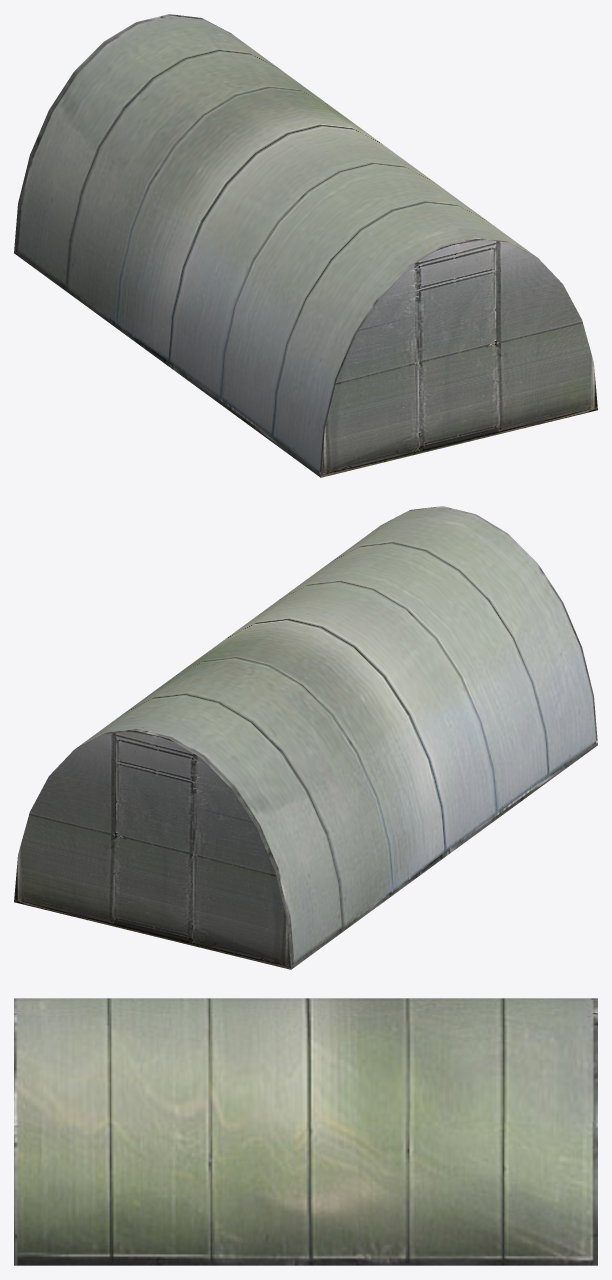
The model's file is sibir_parnik2.FBX.
3 renders of one model, top to bottom at view 1: azimuth 30°, elevation 25°; view 2: azimuth 150°, elevation 25°; view 3: azimuth 270°, elevation 25°, orthographic. The views are drawn at different scales.
Parts seen in each view (by area): view 1: sibir_parnik2; view 2: sibir_parnik2; view 3: sibir_parnik2.
Boxes of the visible parts, x1,y1,x2,y2 form: sibir_parnik2: [14, 14, 597, 477]; sibir_parnik2: [14, 506, 597, 969]; sibir_parnik2: [14, 998, 597, 1265].
Size of the model in its own units: 3.13 by 6 by 2.17.
